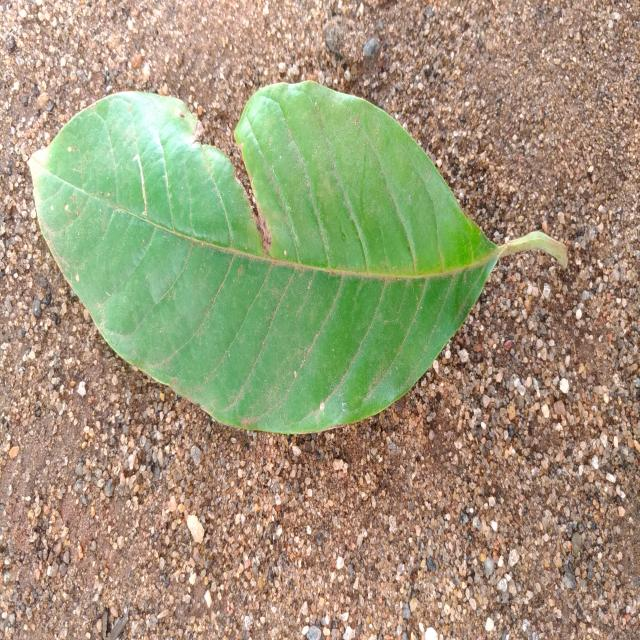coffee: (29, 82, 568, 433)
